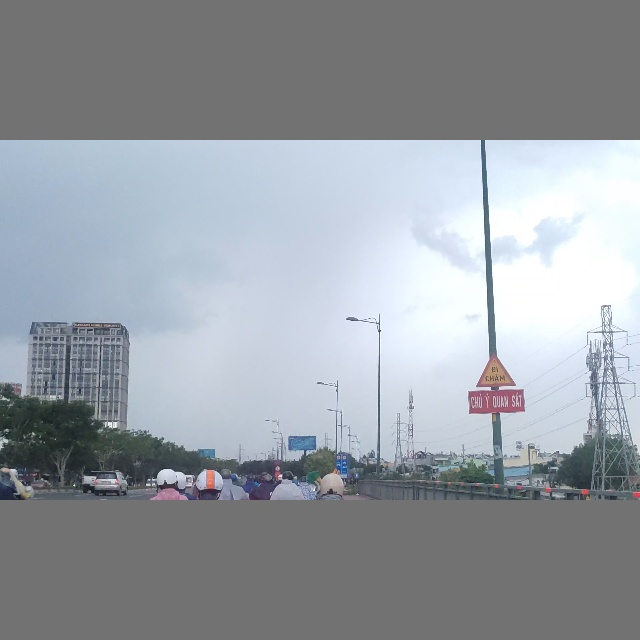W.245a: (475, 352, 517, 389)
